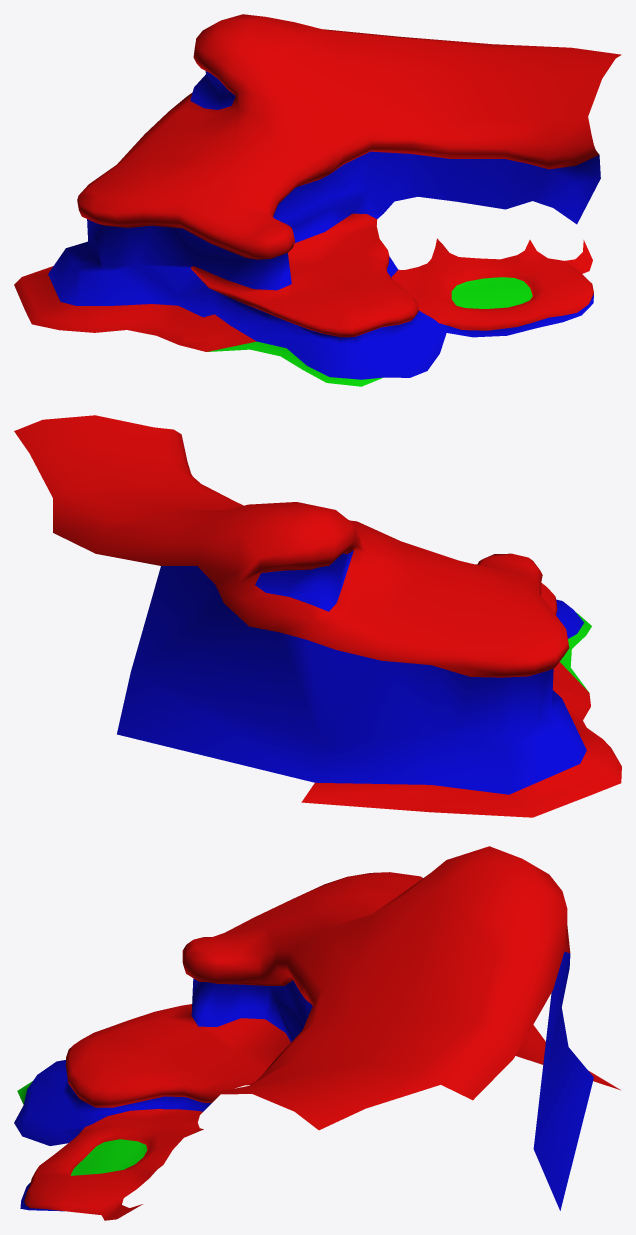
The model's file is VolcanoHill.glb.
The picture shows the model from 3 angles, top to bottom: view 1: azimuth 30°, elevation 25°; view 2: azimuth 150°, elevation 25°; view 3: azimuth 270°, elevation 25°; orthographic projection. The views are drawn at different scales.
Visible parts, largest first — view 1: VolcanoHill; view 2: VolcanoHill; view 3: VolcanoHill.
Part boxes in pixels (box(x1,y1,x2,y2)): VolcanoHill: box(14, 14, 621, 386); VolcanoHill: box(14, 415, 621, 817); VolcanoHill: box(14, 846, 620, 1220).
Bounding box in the file's own units: 24.62 × 8.97 × 17.96.
